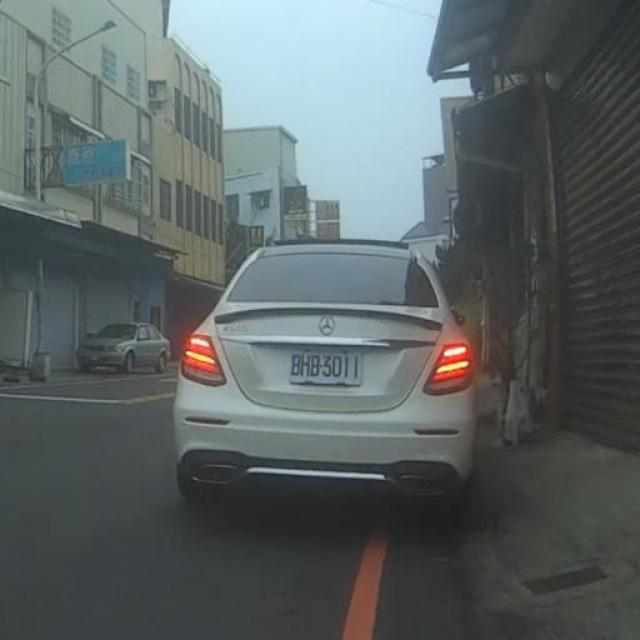illegalparking: (156, 235, 526, 562), (60, 306, 170, 386)
